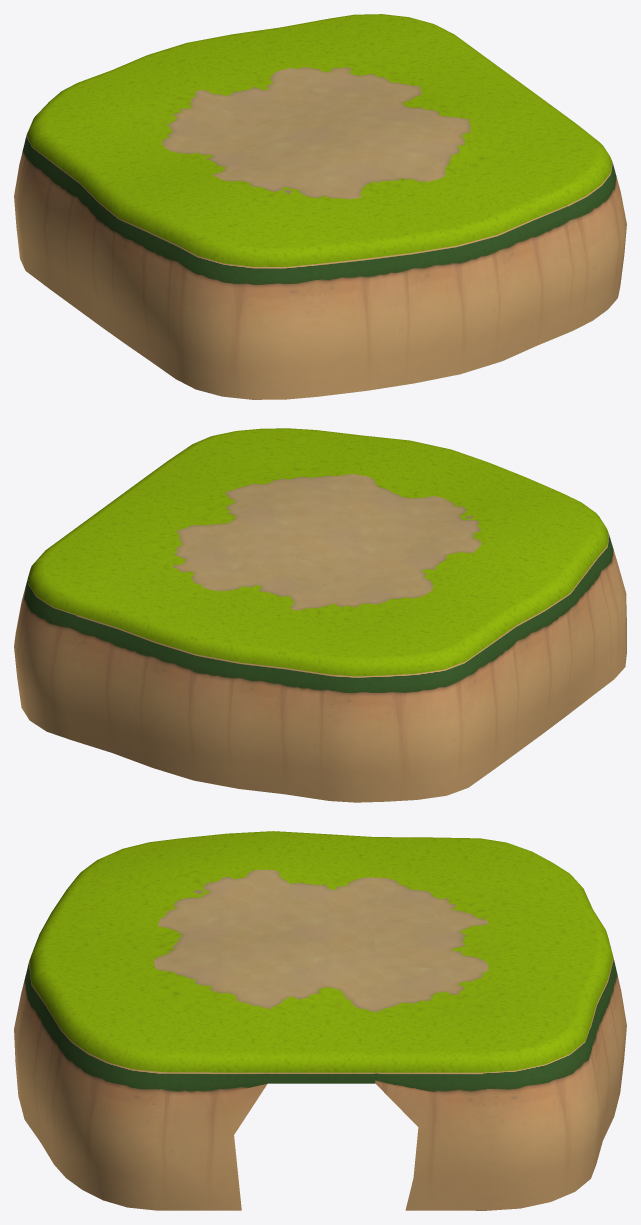
The model's file is TM_Door .fbx.
3 views of the same model, one above another, from view 1: azimuth 30°, elevation 25°; view 2: azimuth 150°, elevation 25°; view 3: azimuth 270°, elevation 25° (orthographic). The views are drawn at different scales.
Visible parts, largest first — view 1: TM_Grass_Corner05.076; view 2: TM_Grass_Corner05.076; view 3: TM_Grass_Corner05.076.
Part boxes in pixels (box(x1,y1,x2,y2)): TM_Grass_Corner05.076: box(14, 14, 626, 399); TM_Grass_Corner05.076: box(14, 428, 626, 802); TM_Grass_Corner05.076: box(14, 831, 626, 1210).
Bounding box in the file's own units: 20.66 × 6.5 × 22.34.
